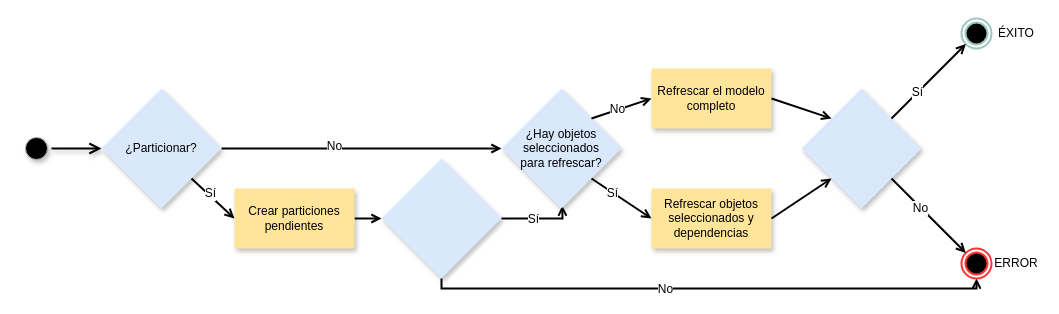
Some shapes in this 1059 by 314 pixel diagram are drawn without their labels. The centre of each missing label's shape, as x and y in pixels:
"¿Particionamiento correcto?" belongs at (442,219).
"¿Refresco correcto?" belongs at (862,149).
